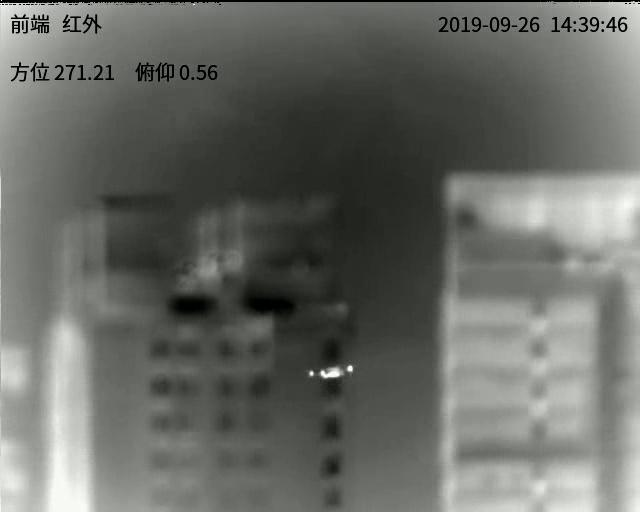DRONE: (305, 363, 356, 380)
